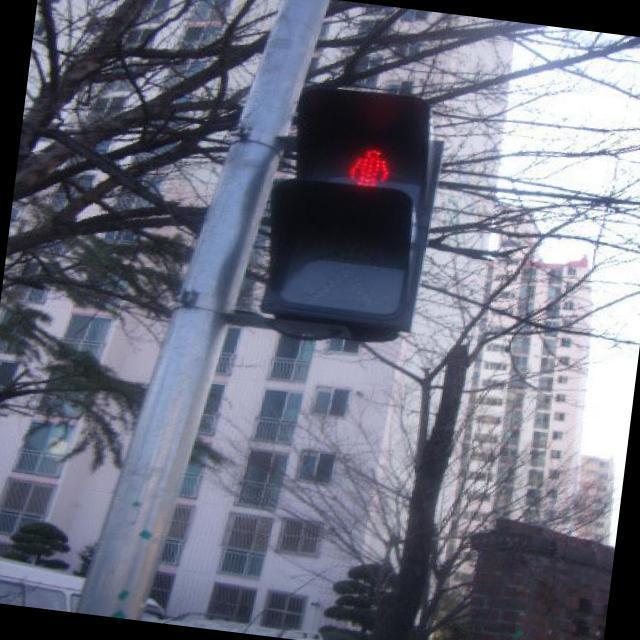redlight: (254, 81, 446, 329)
